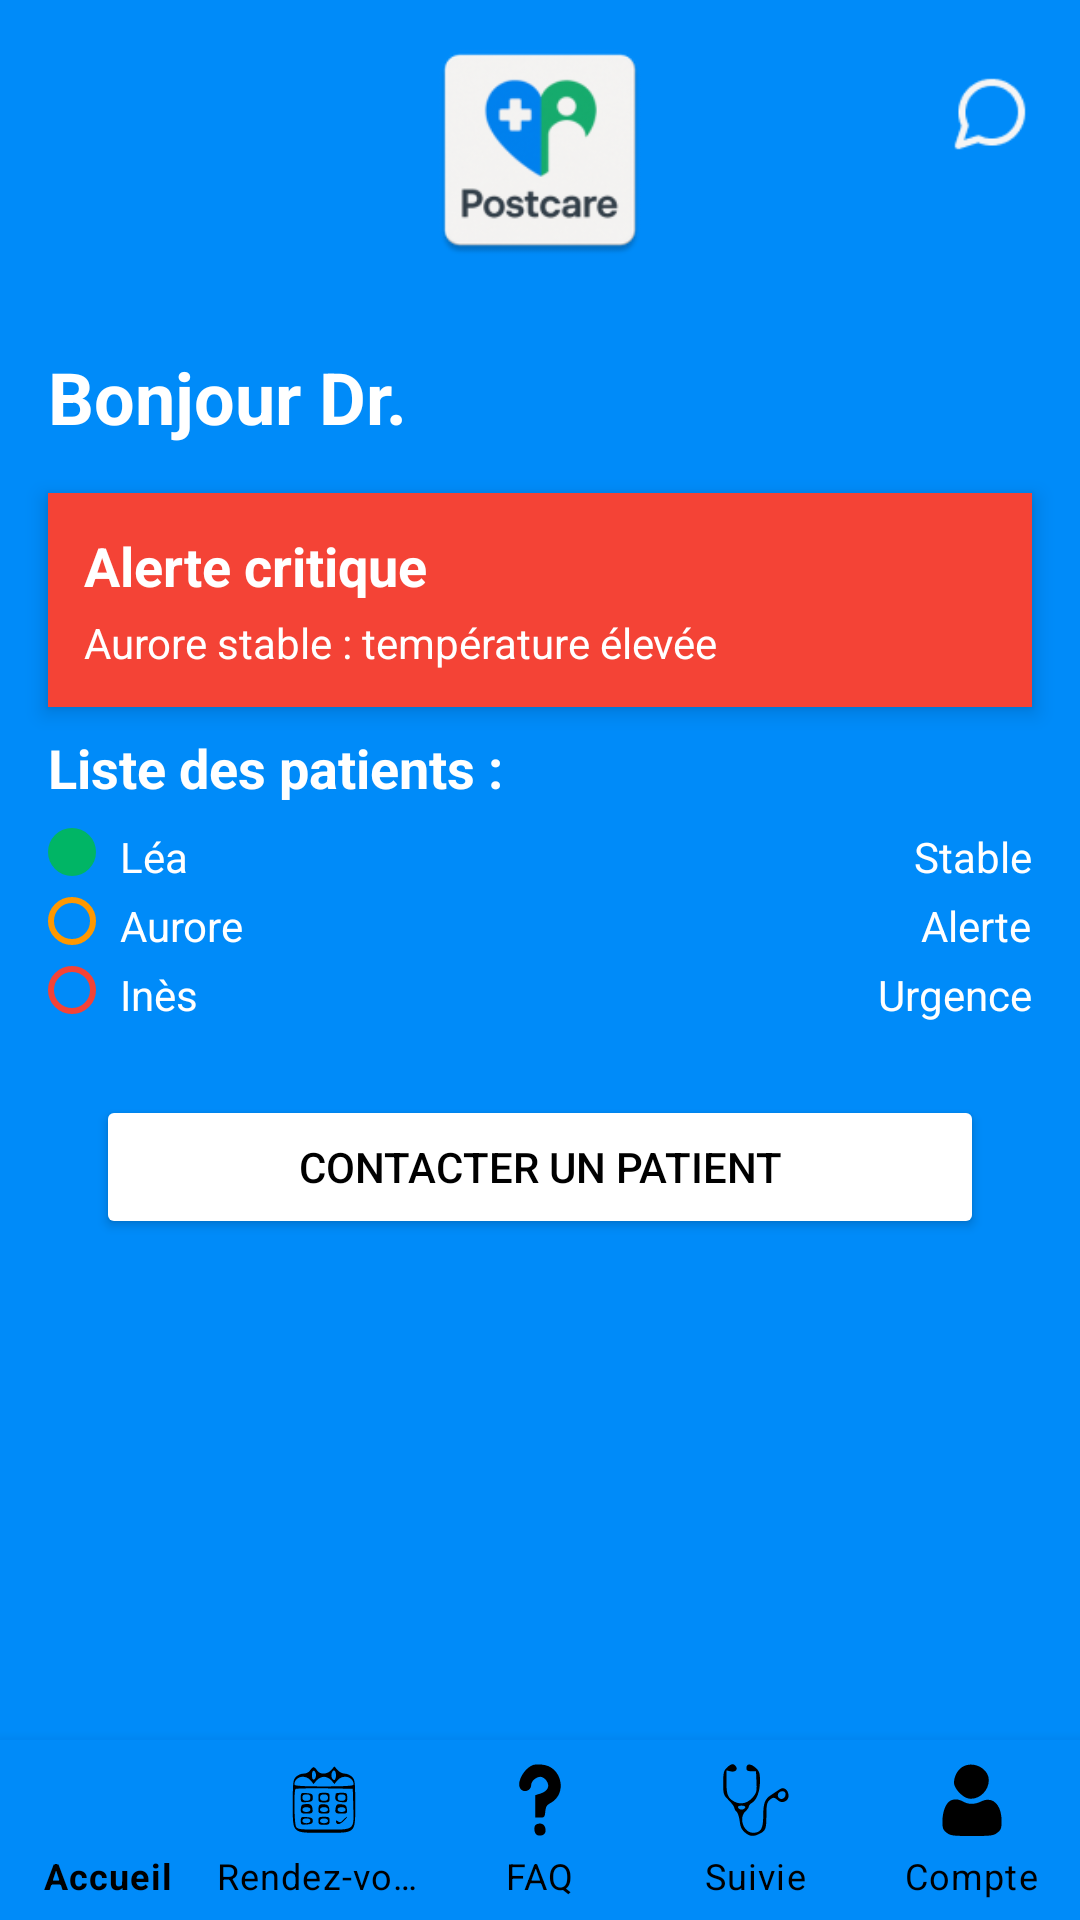

Screen size 1080 × 1920. Icon name, then its center in pixels as (x,y):
Messages: (990,114)
